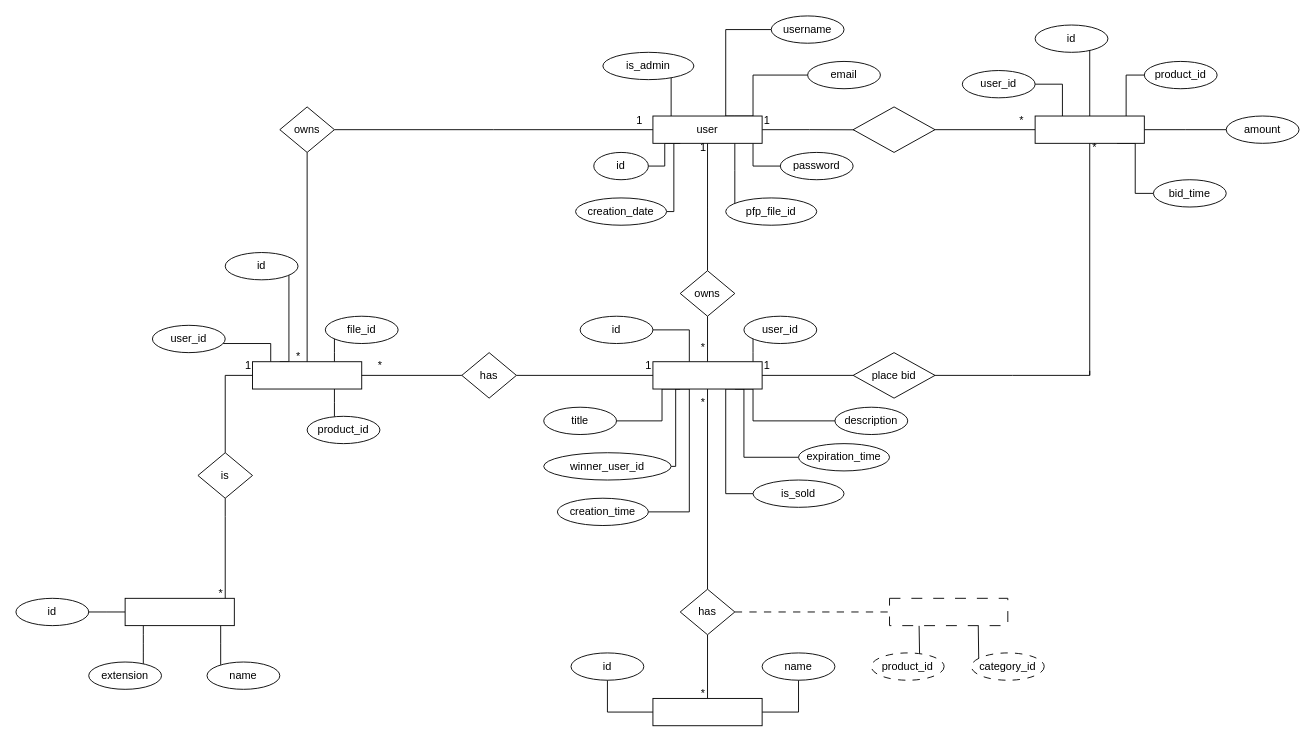
The diagram is 1315 pixels wide and 742 high, and some of its shapes have lost their labels. Each missing label, with the centre of its shape:
belongs to: (893,129)
bid: (1089,129)
category: (707,712)
file: (179,611)
media: (307,375)
product: (707,375)
product_category_rel: (948,611)
